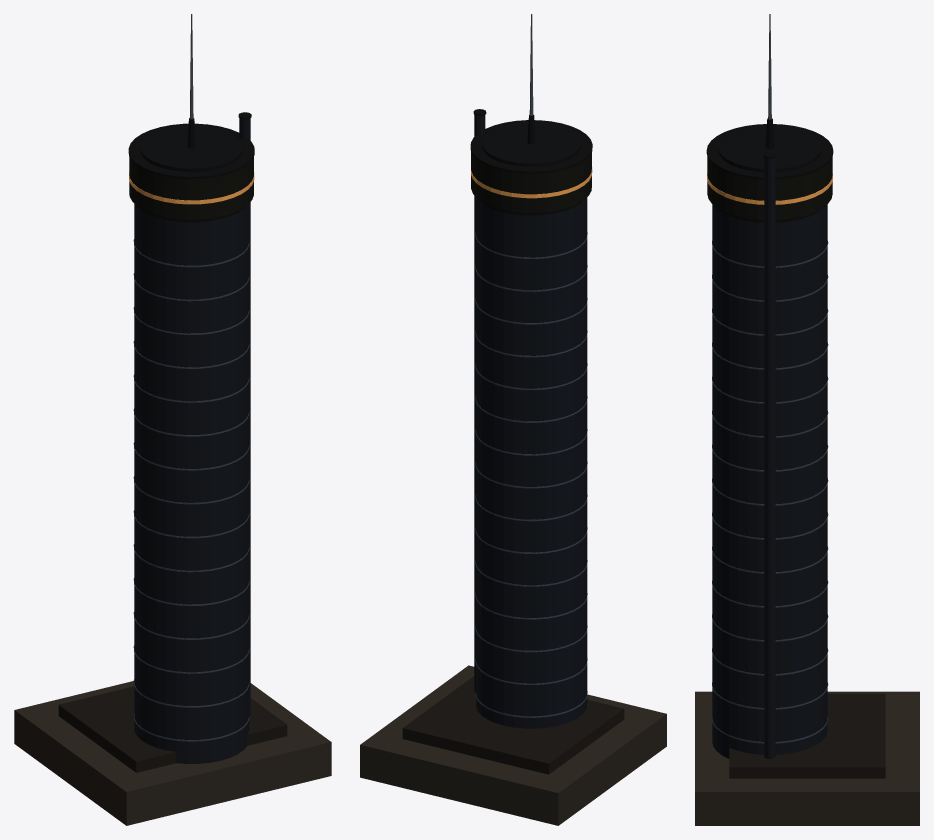
File: atl-westin-peachtree.glb
3 renders of one model, left to right at view 1: azimuth 30°, elevation 25°; view 2: azimuth 150°, elevation 25°; view 3: azimuth 270°, elevation 25°, orthographic. The views are drawn at different scales.
Visible parts, largest first — view 1: westin-tower, westin-crown-glow; view 2: westin-tower, westin-crown-glow; view 3: westin-tower, westin-crown-glow.
Part boxes in pixels (x1,y1,x2,y2): westin-tower: [14, 14, 331, 825]; westin-crown-glow: [129, 172, 254, 204]; westin-tower: [360, 14, 666, 825]; westin-crown-glow: [471, 167, 592, 198]; westin-tower: [695, 14, 919, 825]; westin-crown-glow: [707, 173, 832, 204].
Size of the model in its own units: 76 by 269 by 72.
